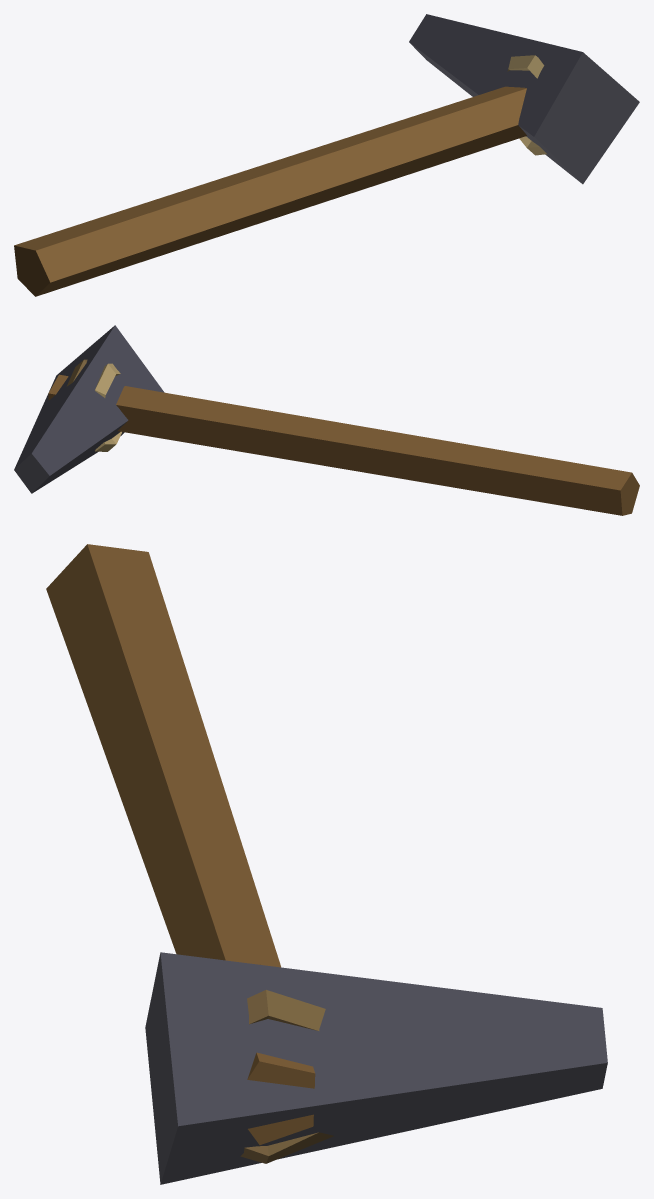
File: toolmaker_hut_ascia.glb
The picture shows the model from 3 angles, top to bottom: view 1: azimuth 30°, elevation 25°; view 2: azimuth 150°, elevation 25°; view 3: azimuth 270°, elevation 25°; orthographic projection. The views are drawn at different scales.
Visible parts, largest first — view 1: toolmaker_hut_ascia; view 2: toolmaker_hut_ascia; view 3: toolmaker_hut_ascia.
Part boxes in pixels (x1,y1,x2,y2): toolmaker_hut_ascia: [14, 14, 639, 296]; toolmaker_hut_ascia: [14, 325, 639, 515]; toolmaker_hut_ascia: [46, 544, 607, 1184].
Size of the model in its own units: 0.7489 by 0.1495 by 0.3272.
